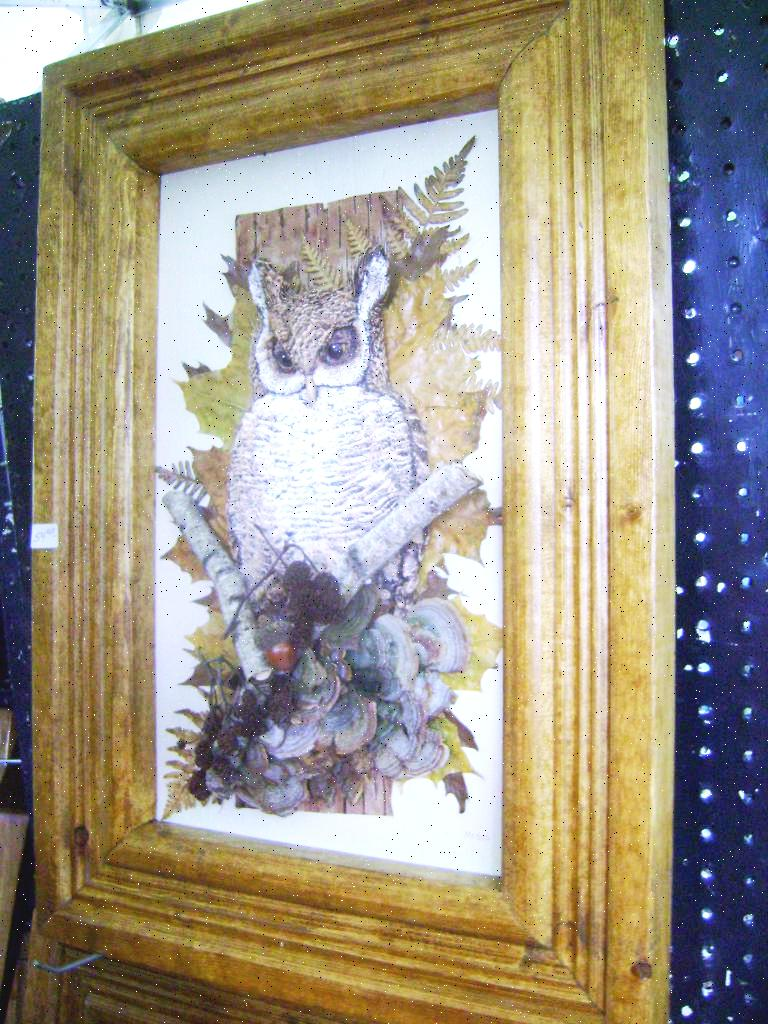Owl: (218, 254, 408, 662)
